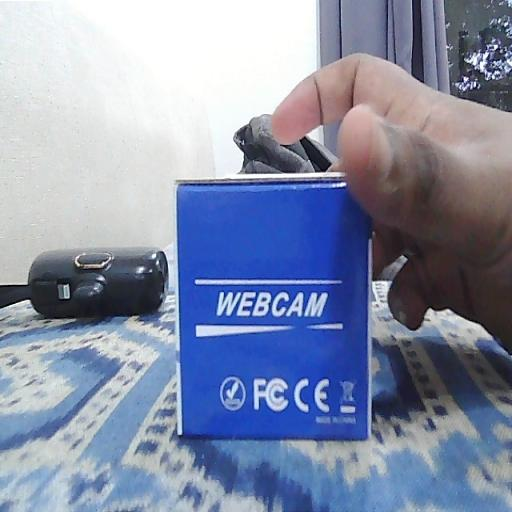webcam_box: (175, 172, 373, 442)
